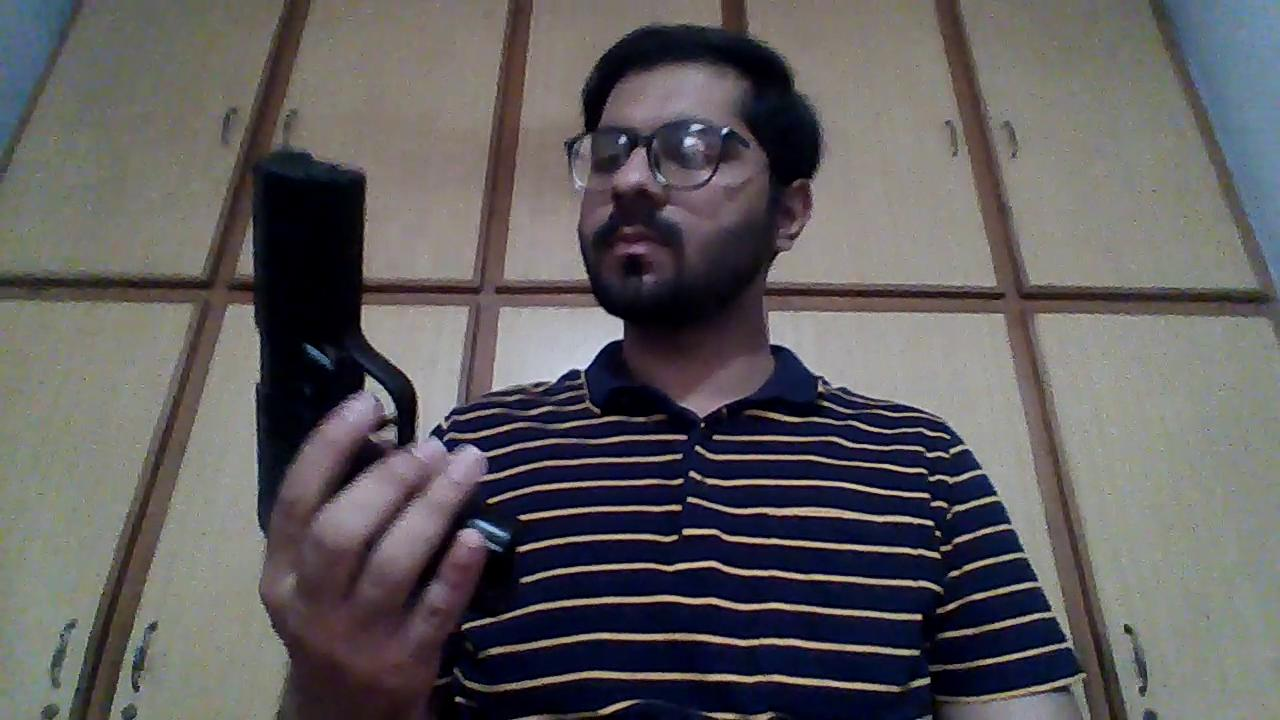criminal: (245, 20, 1086, 720)
weapon: (244, 143, 523, 599)
